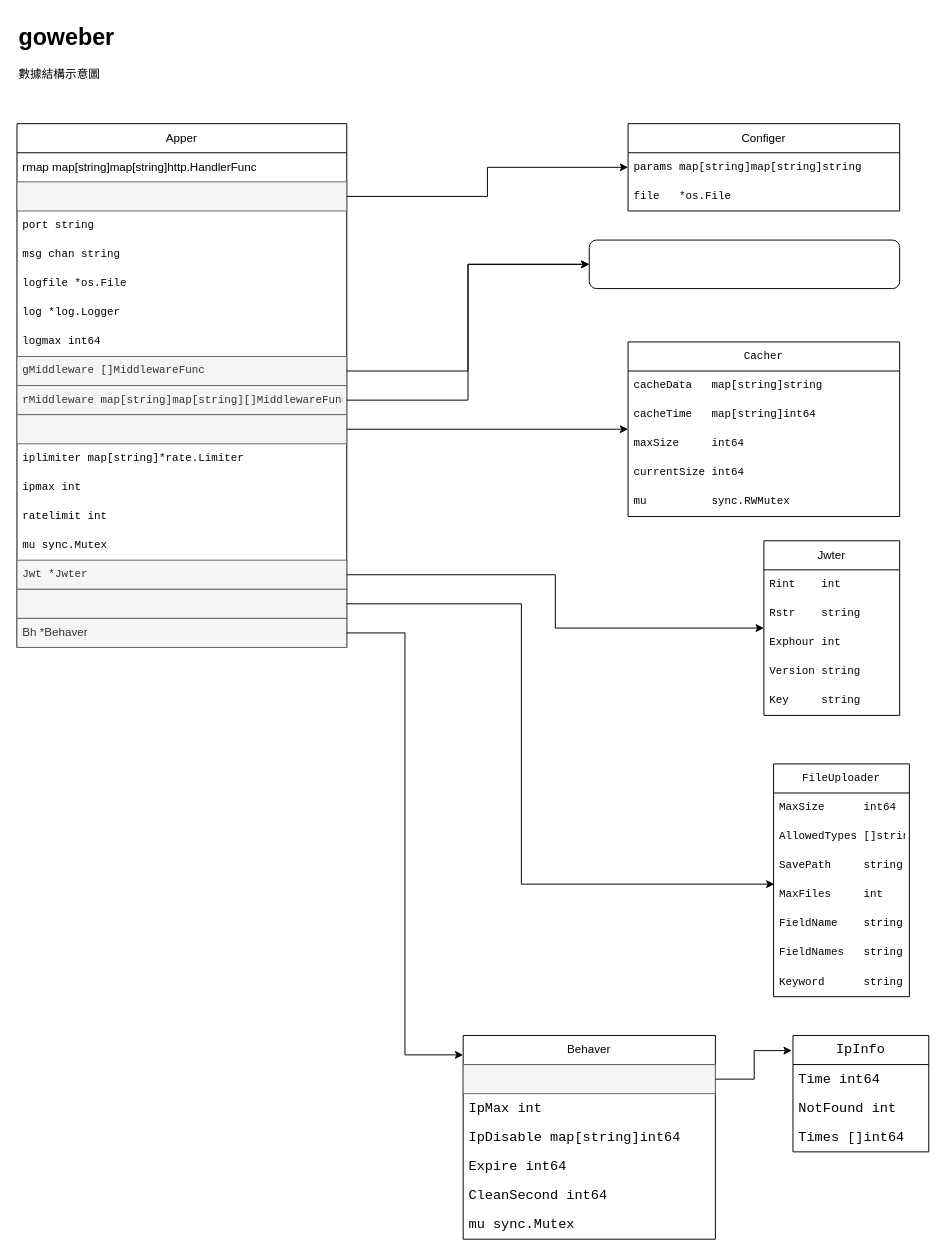
Image size: 946x1256. Some labels were removed from this diagram. Each missing label, with the centre of its shape:
Cache * Cacher: (181,429)
config * Configer: (181,196)
File * FileUploader: (181,603)
IpMontion map [ string ] * IpInfo: (588,1079)
type MiddlewareFunc func ( r * http . Request ) error: (744,264)
